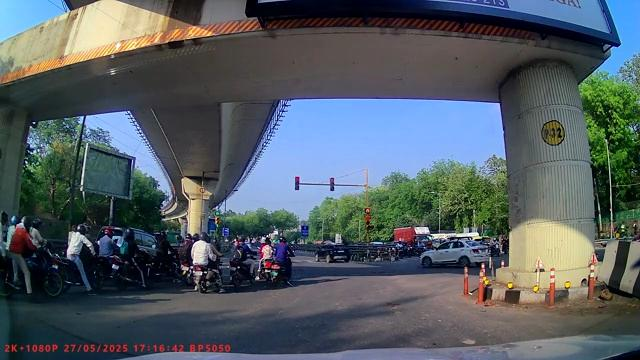motorcycle_with_helmet: (54, 223, 96, 295), (111, 227, 157, 289), (188, 232, 223, 294), (255, 234, 293, 289)
